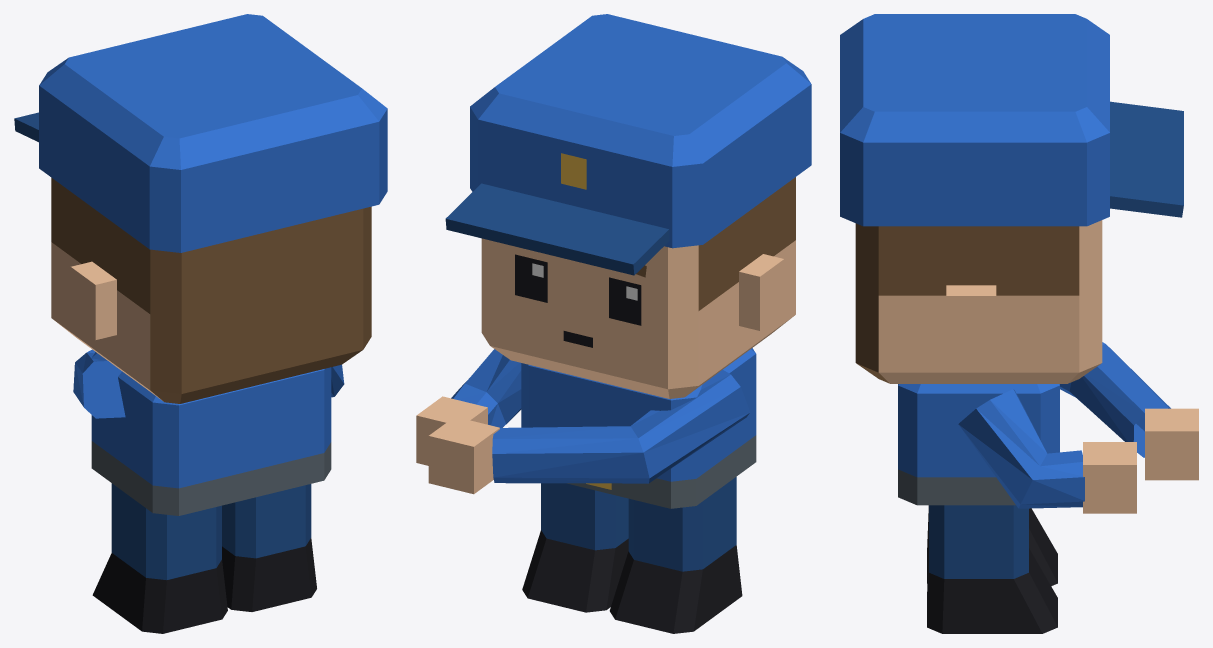
The model's file is chr_soldier_a.glb.
3 renders of one model, left to right at view 1: azimuth 30°, elevation 25°; view 2: azimuth 150°, elevation 25°; view 3: azimuth 270°, elevation 25°, orthographic. The views are drawn at different scales.
Parts seen in each view (by area): view 1: chr_soldier_a; view 2: chr_soldier_a; view 3: chr_soldier_a.
Boxes of the visible parts, <box> form: chr_soldier_a: <box>14,14,387,633</box>; chr_soldier_a: <box>416,14,811,633</box>; chr_soldier_a: <box>840,14,1198,633</box>.
Bounding box in the file's own units: 0.9329 × 1.62 × 0.9951.
1 material, 1 textured.
